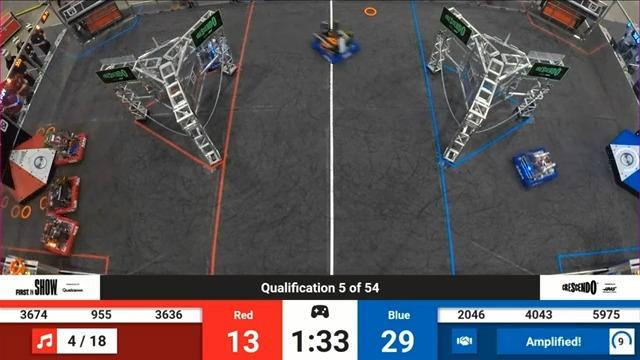robot: (513, 142, 562, 194), (312, 17, 363, 64), (42, 122, 90, 169), (41, 173, 84, 214), (36, 218, 83, 255), (196, 33, 234, 74)
